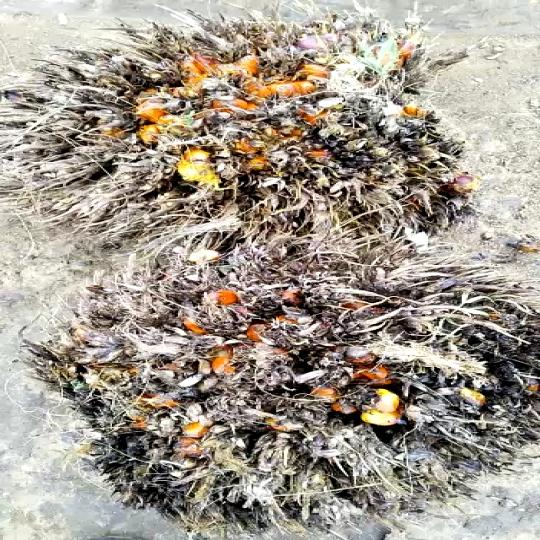terlalu masak: (42, 255, 540, 525), (0, 0, 485, 255)
